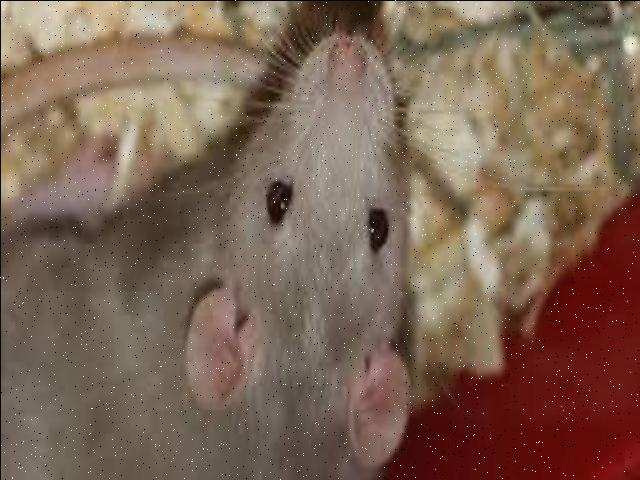Tikus: (0, 34, 414, 480)
